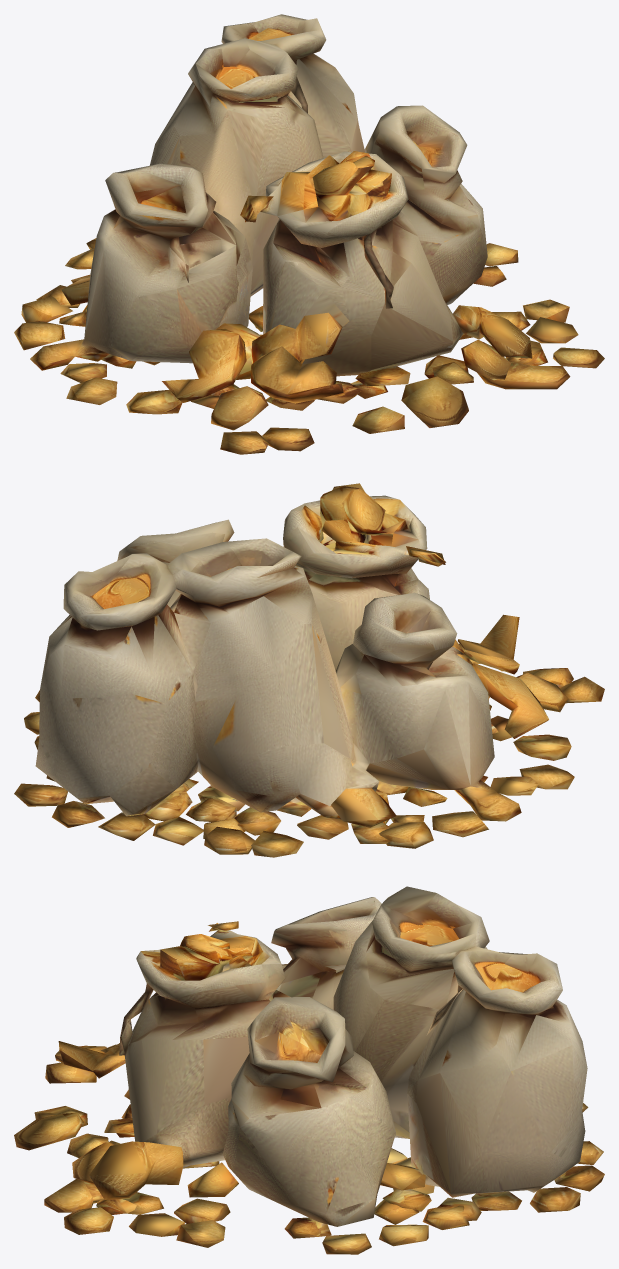
File: oroMar.fbx
3 views of the same model, one above another, from view 1: azimuth 30°, elevation 25°; view 2: azimuth 150°, elevation 25°; view 3: azimuth 270°, elevation 25° (orthographic). The views are drawn at different scales.
Visible parts, largest first — view 1: Mesh_0; view 2: Mesh_0; view 3: Mesh_0.
Part boxes in pixels (x1,y1,x2,y2): Mesh_0: (14,14,604,454); Mesh_0: (14,483,604,857); Mesh_0: (14,886,604,1254).
Size of the model in its own units: 183 by 83.35 by 191.
1 material, 1 textured.
